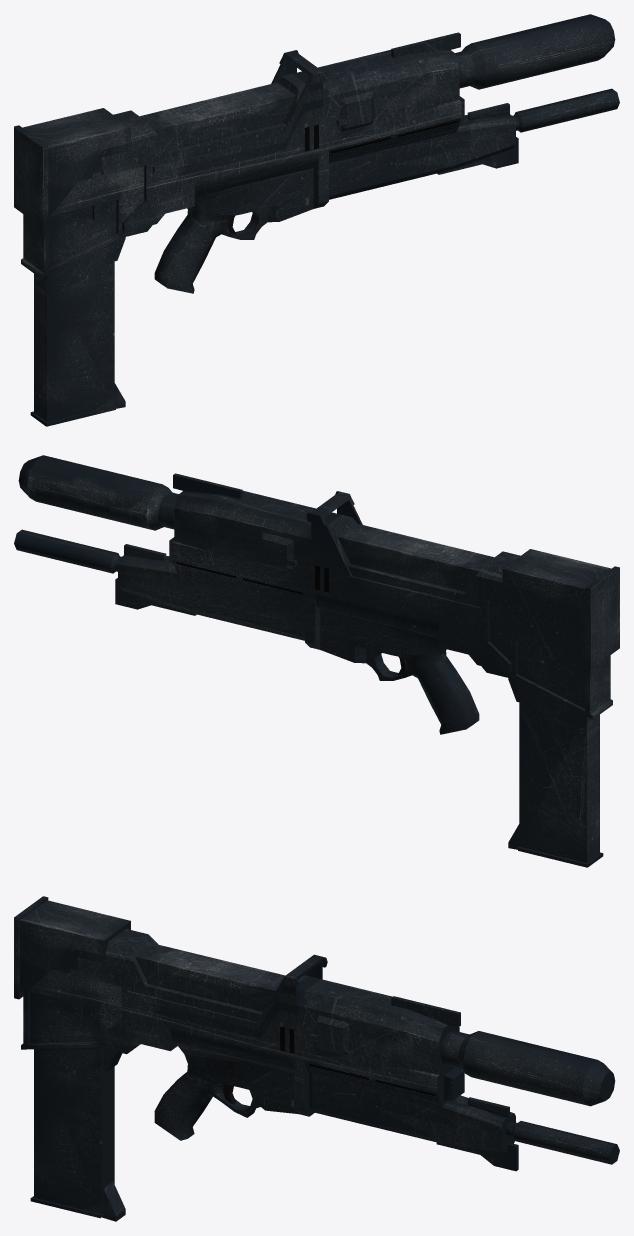
Rendered from Plasma_rifle.fbx.
3 views of the same model, one above another, from view 1: azimuth 30°, elevation 25°; view 2: azimuth 150°, elevation 25°; view 3: azimuth 330°, elevation 25° (orthographic).
Visible parts, largest first — view 1: node_2e151db6_561d_4f20_913b_ccc0a548cb4c_mesh0; view 2: node_2e151db6_561d_4f20_913b_ccc0a548cb4c_mesh0; view 3: node_2e151db6_561d_4f20_913b_ccc0a548cb4c_mesh0.
Part boxes in pixels (x1,y1,x2,y2): node_2e151db6_561d_4f20_913b_ccc0a548cb4c_mesh0: [14, 14, 619, 426]; node_2e151db6_561d_4f20_913b_ccc0a548cb4c_mesh0: [14, 455, 619, 867]; node_2e151db6_561d_4f20_913b_ccc0a548cb4c_mesh0: [14, 896, 619, 1221].
Bounding box in the file's own units: 5737 × 2770 × 506.
2 materials, 1 textured.
